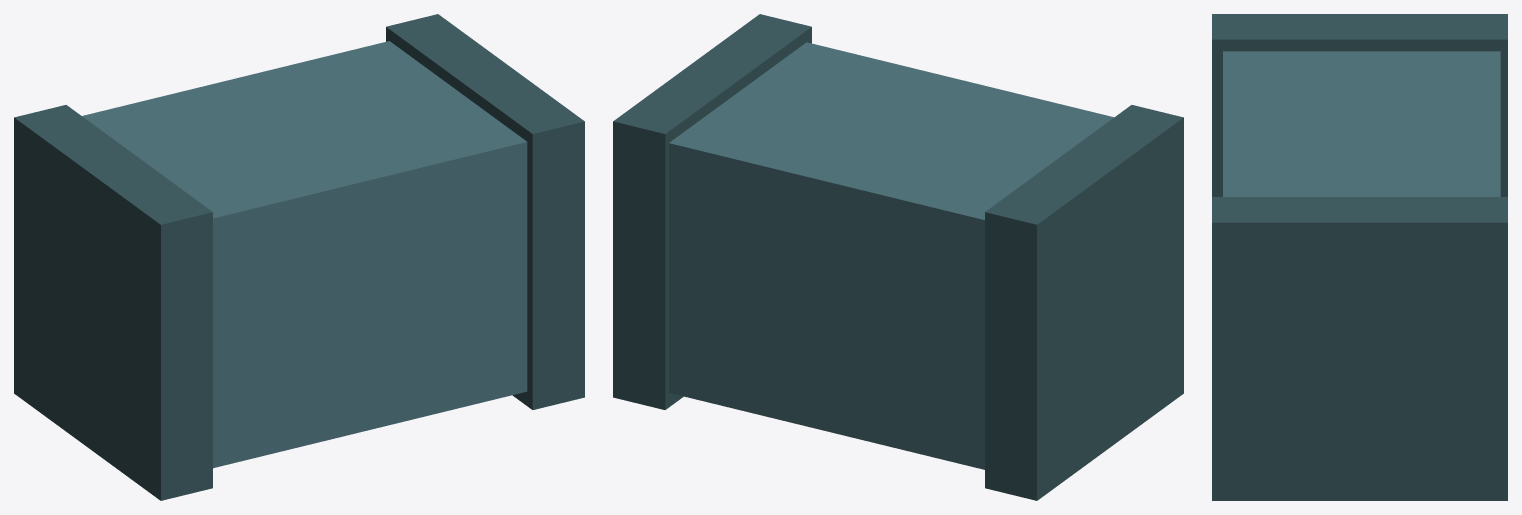
Rendered from Vent_2_D_4.fbx.
3 renders of one model, left to right at view 1: azimuth 30°, elevation 25°; view 2: azimuth 150°, elevation 25°; view 3: azimuth 270°, elevation 25°, orthographic.
Visible parts, largest first — view 1: Vent_2_D_4; view 2: Vent_2_D_4; view 3: Vent_2_D_4.
Part boxes in pixels (<box>): Vent_2_D_4: <box>14,14,584,500</box>; Vent_2_D_4: <box>613,14,1183,500</box>; Vent_2_D_4: <box>1212,14,1507,500</box>.
Bounding box in the file's own units: 59.43 × 36.98 × 35.62.
